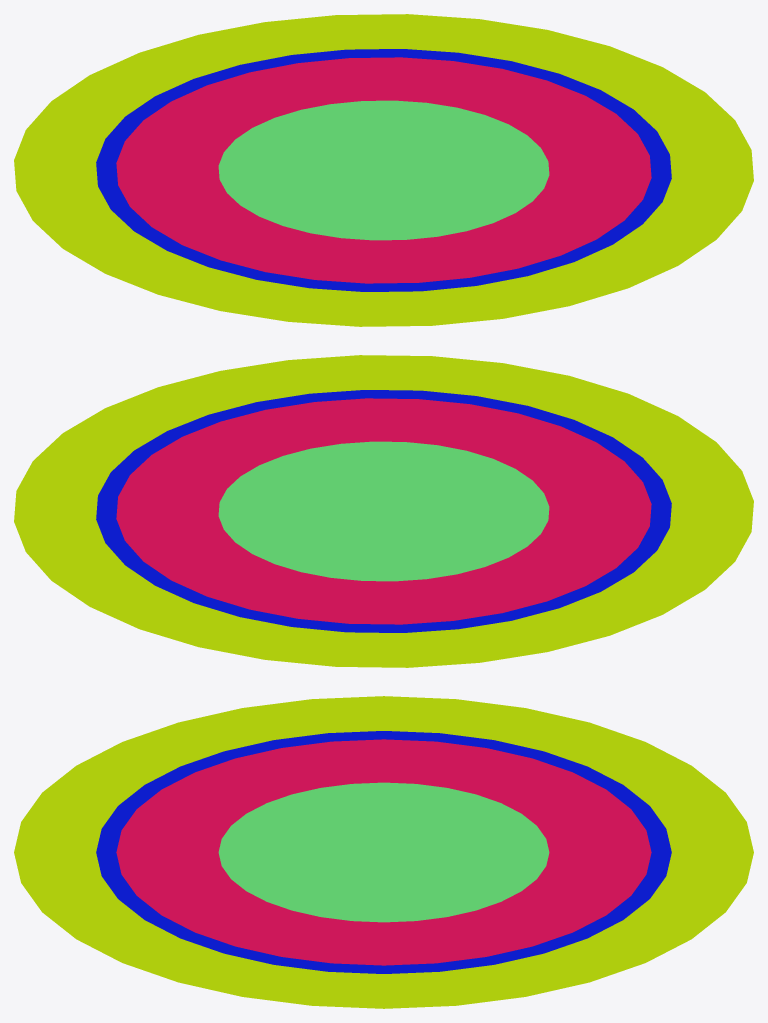
The model's file is rug.fbx.
3 renders of one model, top to bottom at view 1: azimuth 30°, elevation 25°; view 2: azimuth 150°, elevation 25°; view 3: azimuth 270°, elevation 25°, orthographic.
Visible parts, largest first — view 1: Circle; view 2: Circle; view 3: Circle.
Part boxes in pixels (x1,y1,x2,y2): Circle: (14,14,753,326); Circle: (14,355,753,667); Circle: (14,696,753,1008).
Bounding box in the file's own units: 200 × 0 × 200.
